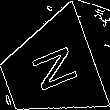N_W: (21, 43, 78, 98)
